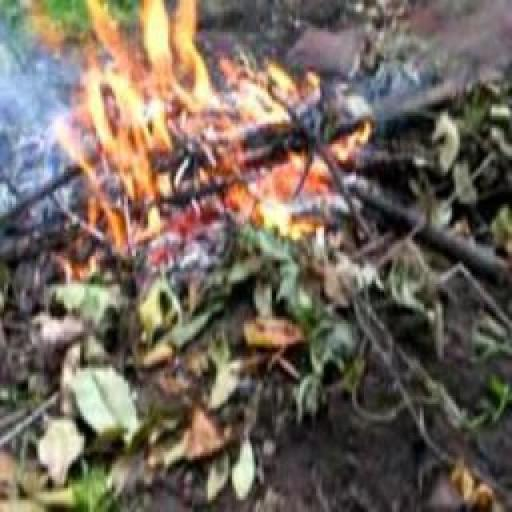smoke: (62, 6, 295, 245)
